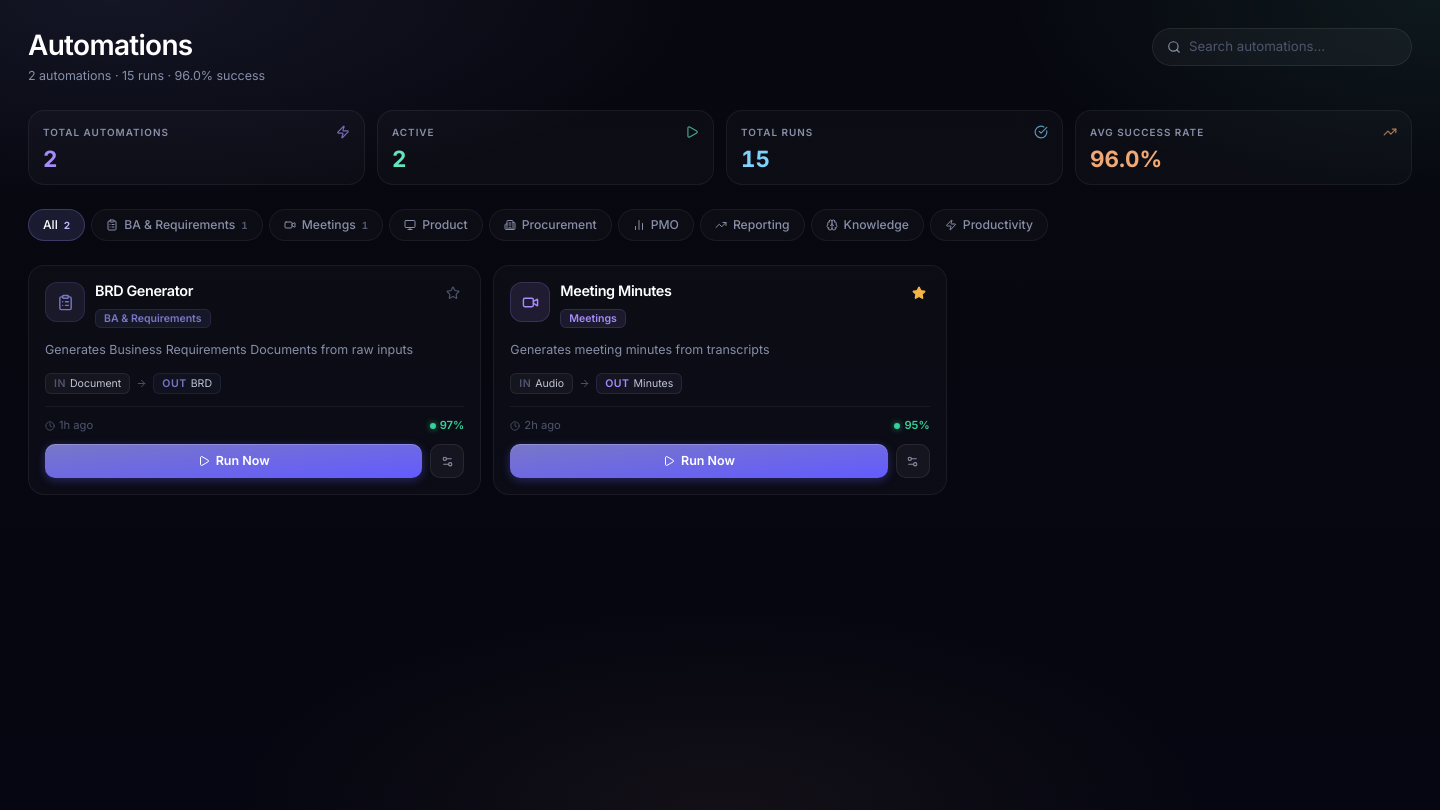
it: Automations – Search & Filter › filters by category tab
Expected: the heading "BRD Generator" is shown, [95,282,193,299]
Click the button "Meetings 1" at (326, 225), box [269,209,383,241]
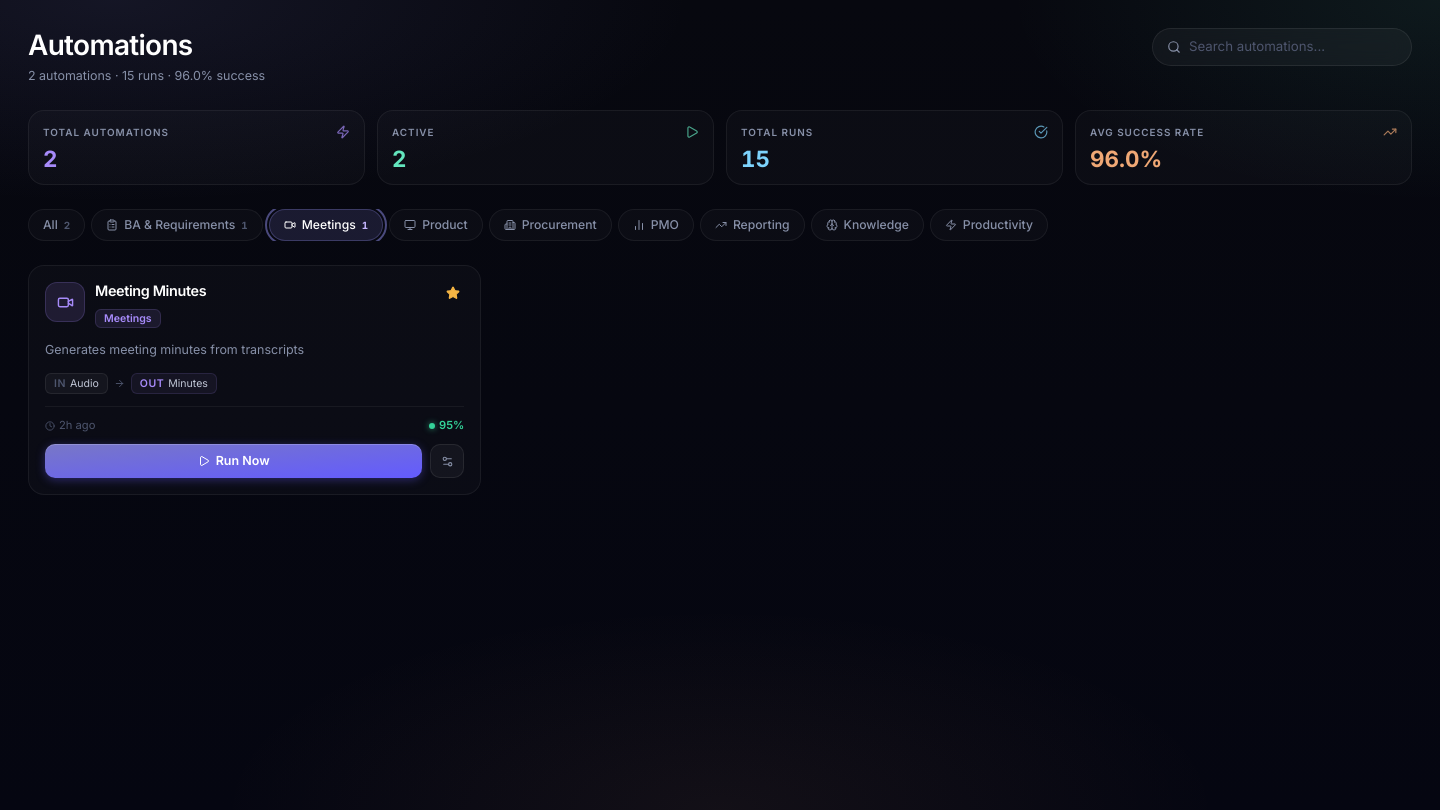
Expected: the heading "Meeting Minutes" is shown, [95,282,206,299]
Expected: the heading "BRD Generator" is gone
